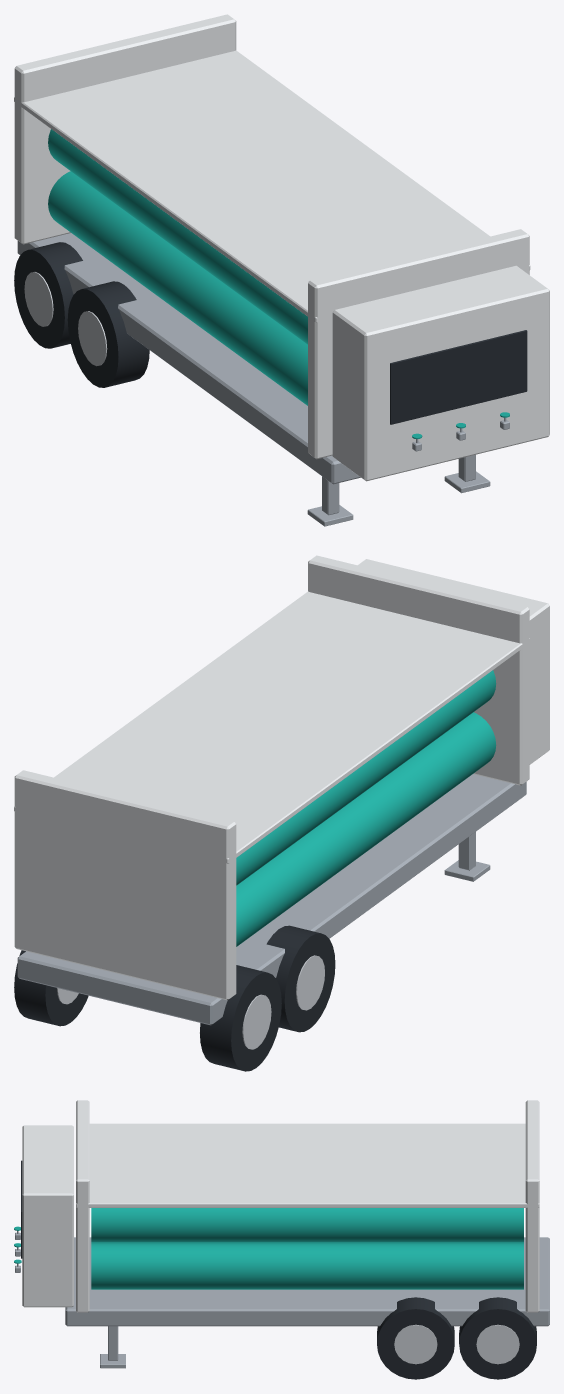
File: tube-trailer.glb
The picture shows the model from 3 angles, top to bottom: view 1: azimuth 30°, elevation 25°; view 2: azimuth 150°, elevation 25°; view 3: azimuth 270°, elevation 25°; orthographic projection. The views are drawn at different scales.
Parts seen in each view (by area): view 1: tube-trailer; view 2: tube-trailer; view 3: tube-trailer.
Boxes of the visible parts, bbox=[...] form: tube-trailer: bbox=[14, 14, 549, 526]; tube-trailer: bbox=[14, 555, 549, 1071]; tube-trailer: bbox=[14, 1100, 549, 1379].
Size of the model in its own units: 2.24 by 2.54 by 6.2.
